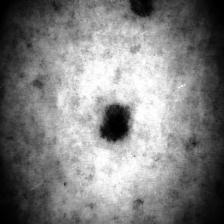Benign Marking or Mole: (104, 105, 135, 144), (126, 0, 158, 21)
